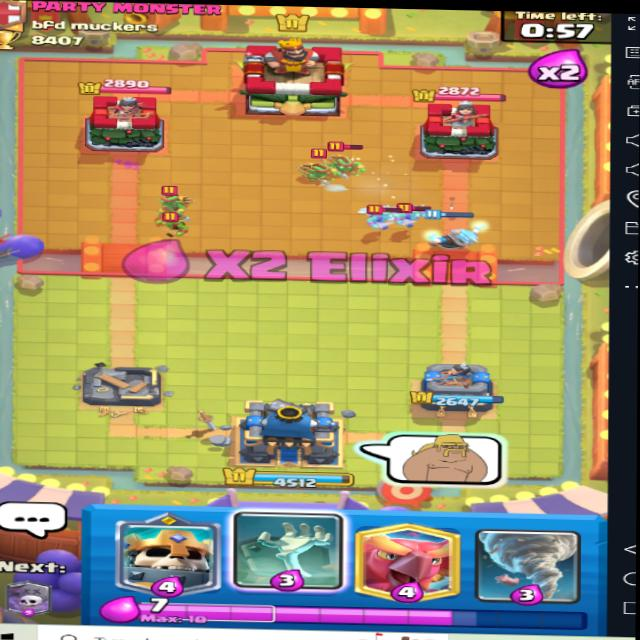goblin: (405, 205, 445, 223), (371, 203, 399, 227), (157, 214, 184, 231)
spear-goblin: (326, 137, 365, 180), (289, 146, 334, 182), (153, 190, 217, 210)
